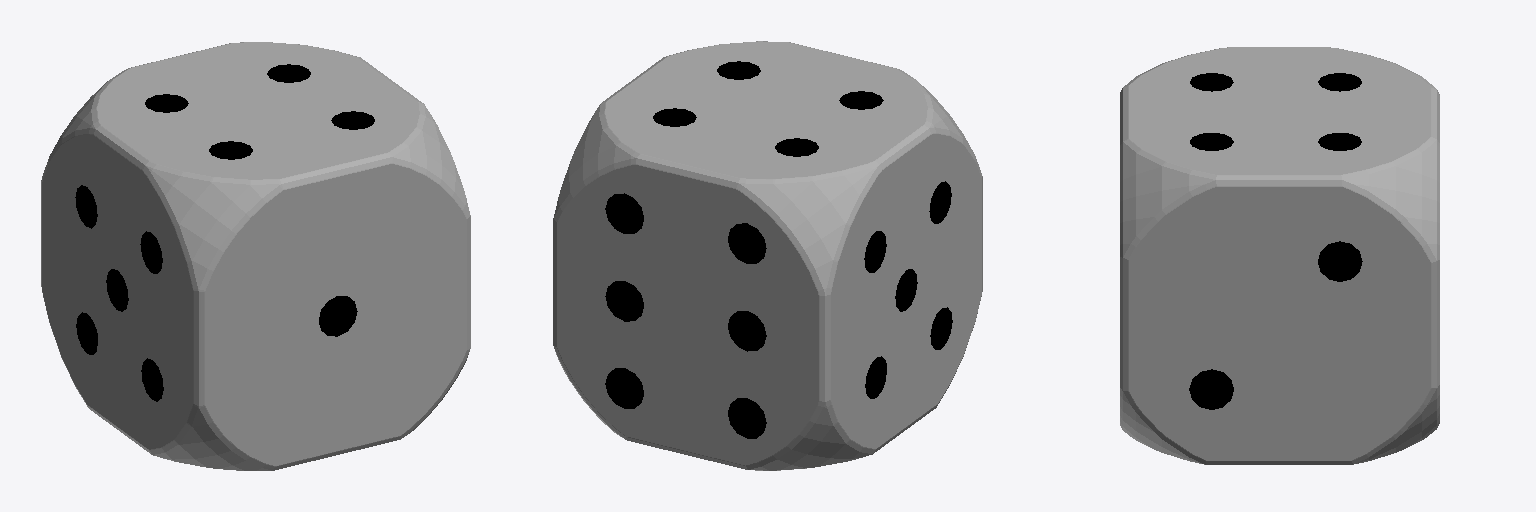
File: dice.obj
The picture shows the model from 3 angles: view 1: azimuth 30°, elevation 25°; view 2: azimuth 150°, elevation 25°; view 3: azimuth 270°, elevation 25°; orthographic projection.
Parts seen in each view (by area): view 1: obj0; view 2: obj0; view 3: obj0.
Part boxes in pixels (x1,y1,x2,y2): obj0: (41,42,470,470); obj0: (553,41,982,470); obj0: (1120,47,1439,464).
Bounding box in the file's own units: 1.06 × 1.06 × 1.06.